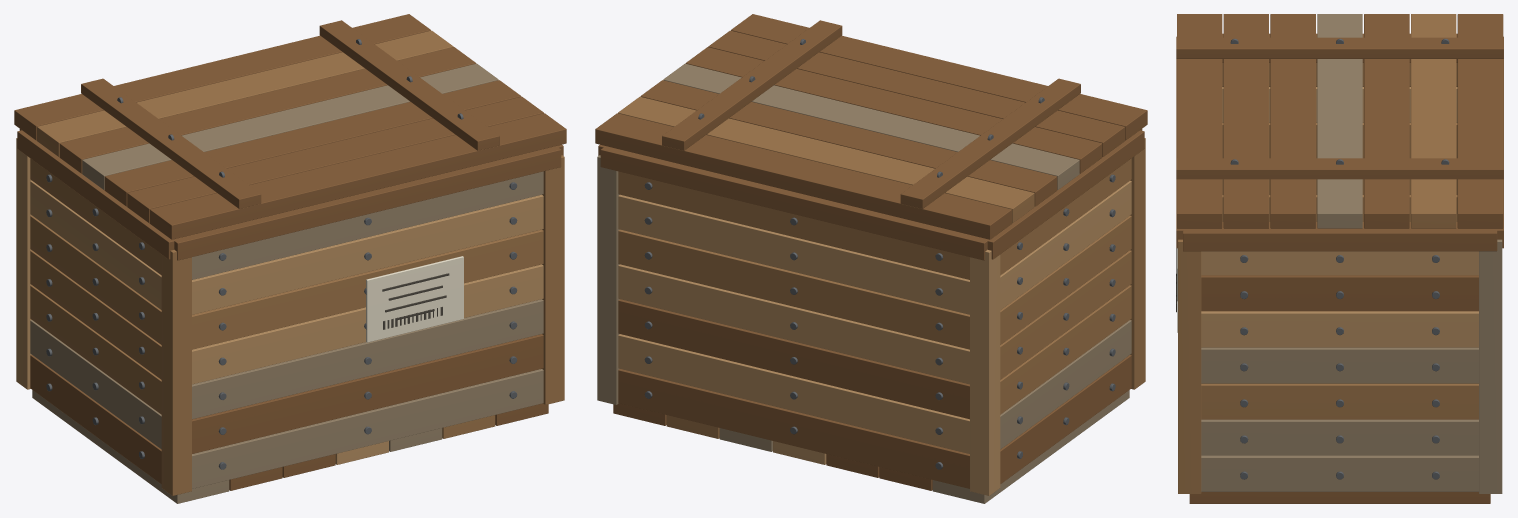
The model's file is caixa_missao1.glb.
3 views of the same model, side by side, from view 1: azimuth 30°, elevation 25°; view 2: azimuth 150°, elevation 25°; view 3: azimuth 270°, elevation 25° (orthographic). The views are drawn at different scales.
Visible parts, largest first — view 1: Caixa_Missao1; view 2: Caixa_Missao1; view 3: Caixa_Missao1.
Part boxes in pixels (box(x1,y1,x2,y2)): Caixa_Missao1: box(14, 14, 566, 503); Caixa_Missao1: box(595, 14, 1147, 503); Caixa_Missao1: box(1176, 14, 1503, 503).
Bounding box in the file's own units: 2.12 × 1.54 × 1.47.
